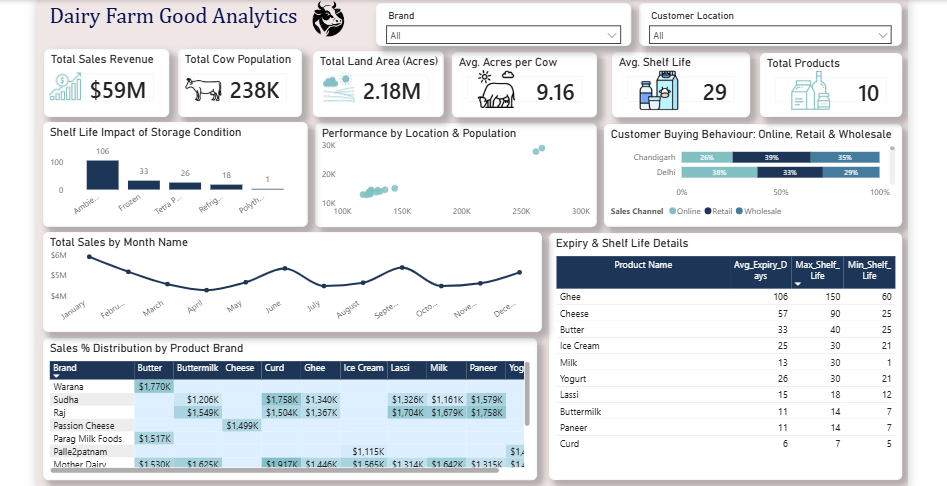

The page's visual inventory and layout, read from the dashboard file:
{"tool":"powerbi","page":{"name":"Page 1","canvas":[1280,720],"ordinal":0},"visuals":[{"type":"textbox","box":[12.5,1.8,405.8,57.2],"z":0},{"type":"scatterChart","title":"Performance by Location & Population","fields":{"X":["Dairy Farm Dataset.Total_Land_Area"],"Y":["Dairy Farm Dataset.Total_Cows"],"Category":["Dairy Farm Dataset.Location"]},"box":[408.5,180.7,414.4,152.8],"z":1000},{"type":"cardVisual","title":"Total Cow Population","fields":{"Data":["Dairy Farm Dataset.Total_Cows"]},"box":[207.2,72,182.2,99.9],"z":2000},{"type":"cardVisual","title":"Total Land Area (Acres)","fields":{"Data":["Dairy Farm Dataset.Total_Land_Area"]},"box":[405.6,74.9,192.5,97],"z":3000},{"type":"cardVisual","title":"Avg. Acres per Cow","fields":{"Data":["Dairy Farm Dataset.Cow_Density_Per_Acre"]},"box":[609.8,76.4,213.1,95.5],"z":4000},{"type":"pivotTable","title":"Sales % Distribution by Product Brand","fields":{"Rows":["Dairy Farm Dataset.Brand"],"Columns":["Dairy Farm Dataset.Product Name"],"Values":["Dairy Farm Dataset.Total_Sales"]},"box":[8.8,496.7,725.9,208.7],"z":5000},{"type":"cardVisual","title":"Total Sales Revenue","fields":{"Data":["Dairy Farm Dataset.Total_Sales"]},"box":[10.3,72,183.7,99.9],"z":6000},{"type":"image","box":[358.5,0,139.6,58.8],"z":7000},{"type":"clusteredColumnChart","title":"Shelf Life Impact of  Storage Condition","fields":{"Category":["Dairy Farm Dataset.Storage Condition"],"Y":["Dairy Farm Dataset.Avg_Shelf_Life"]},"box":[8.8,179.3,389.4,154.3],"z":8000},{"type":"cardVisual","title":"Avg. Shelf Life","fields":{"Data":["Dairy Farm Dataset.Avg_Shelf_Life"]},"box":[844.9,76.4,202.8,95.5],"z":9000},{"type":"hundredPercentStackedBarChart","title":"Customer Buying Behaviour: Online, Retail & Wholesale","fields":{"Category":["Dairy Farm Dataset.Customer Location"],"Y":["Dairy Farm Dataset.Total_Sales"],"Series":["Dairy Farm Dataset.Sales Channel"]},"box":[833.1,182.2,437.9,151.3],"z":10000},{"type":"tableEx","title":"Expiry & Shelf Life Details","fields":{"Values":["Dairy Farm Dataset.Product Name","Dairy Farm Dataset.Avg_Expiry_Days","Dairy Farm Dataset.Max_Shelf_Life","Dairy Farm Dataset.Min_Shelf_Life"]},"box":[752.3,342.4,518.7,362.9],"z":11000},{"type":"lineChart","title":"Total Sales by Month Name","fields":{"Category":["Dairy Farm Dataset.Month Name"],"Y":["_Measures.Total_Sales"]},"box":[8.8,340.9,733.2,146.9],"z":12000},{"type":"image","box":[16.2,80.8,50,92.6],"z":13000},{"type":"image","box":[217.5,72,54.4,119],"z":14000},{"type":"image","box":[420.2,80.8,47,94],"z":15000},{"type":"image","box":[868.4,102.9,91.1,60.2],"z":16000},{"type":"slicer","fields":{"Values":["Dairy Farm Dataset.Customer Location"]},"box":[884.6,4.4,386.4,63.2],"z":17000},{"type":"slicer","fields":{"Values":["Dairy Farm Dataset.Brand"]},"box":[498.1,4.4,374.7,63.2],"z":18000},{"type":"image","box":[624.5,101.4,101.4,58.8],"z":21000},{"type":"cardVisual","title":"Total Products","fields":{"Data":["Dairy Farm Dataset.Total_Products"]},"box":[1062.4,77.9,208.7,94],"z":21001},{"type":"image","box":[1090.3,104.3,92.6,57.3],"z":21002}]}

Visuals, with their boxes on the page's 1280x720 design canvas (x1, y1, x2, y2). These are canvas units, not pixel positions in the 947x486 screenshot, which may show the page scaled, cropped or inside an application window:
textbox: [12,2,418,59]
"Performance by Location & Population" scatterChart: [408,181,823,334]
"Total Cow Population" cardVisual: [207,72,389,172]
"Total Land Area (Acres)" cardVisual: [406,75,598,172]
"Avg. Acres per Cow" cardVisual: [610,76,823,172]
"Sales % Distribution by Product Brand" pivotTable: [9,497,735,705]
"Total Sales Revenue" cardVisual: [10,72,194,172]
image: [358,0,498,59]
"Shelf Life Impact of  Storage Condition" clusteredColumnChart: [9,179,398,334]
"Avg. Shelf Life" cardVisual: [845,76,1048,172]
"Customer Buying Behaviour: Online, Retail & Wholesale" hundredPercentStackedBarChart: [833,182,1271,334]
"Expiry & Shelf Life Details" tableEx: [752,342,1271,705]
"Total Sales by Month Name" lineChart: [9,341,742,488]
image: [16,81,66,173]
image: [218,72,272,191]
image: [420,81,467,175]
image: [868,103,960,163]
slicer - Dairy Farm Dataset.Customer Location: [885,4,1271,68]
slicer - Dairy Farm Dataset.Brand: [498,4,873,68]
image: [624,101,726,160]
"Total Products" cardVisual: [1062,78,1271,172]
image: [1090,104,1183,162]
